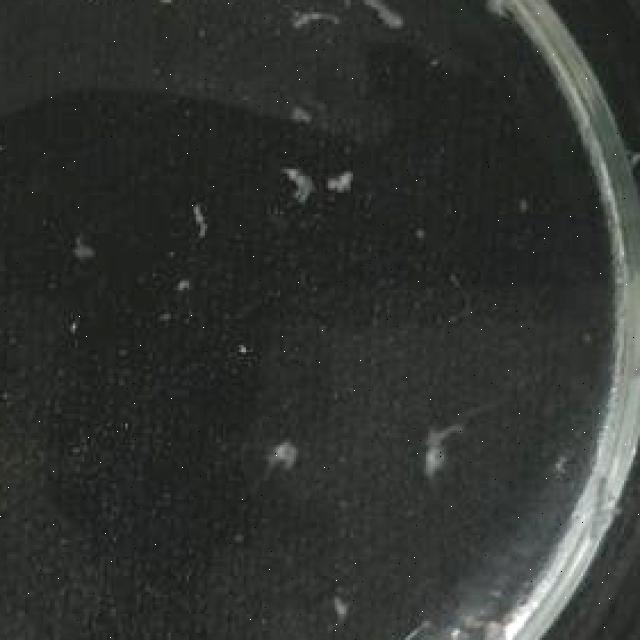Microplastic: (271, 145, 326, 219), (416, 412, 464, 486), (66, 217, 121, 280), (168, 190, 228, 240), (339, 0, 428, 33), (260, 418, 312, 468), (287, 0, 335, 48), (321, 157, 365, 207), (0, 98, 16, 166), (139, 0, 187, 19)
